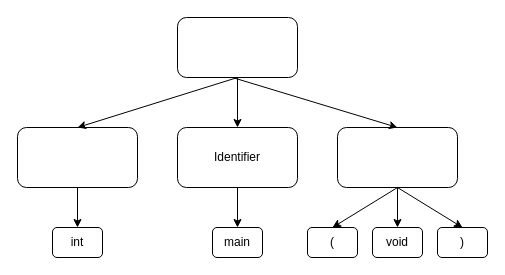
The diagram is 505 pixels wide and 275 high, and some of its shapes have lost their labels. The shapes that lost their labels are listed below. From the top down, each one's centre as x and y in pixels, then its label:
At point (237, 47): "Function Declaration".
At point (77, 157): "Type Specifier".
At point (397, 157): "ParameterList".
